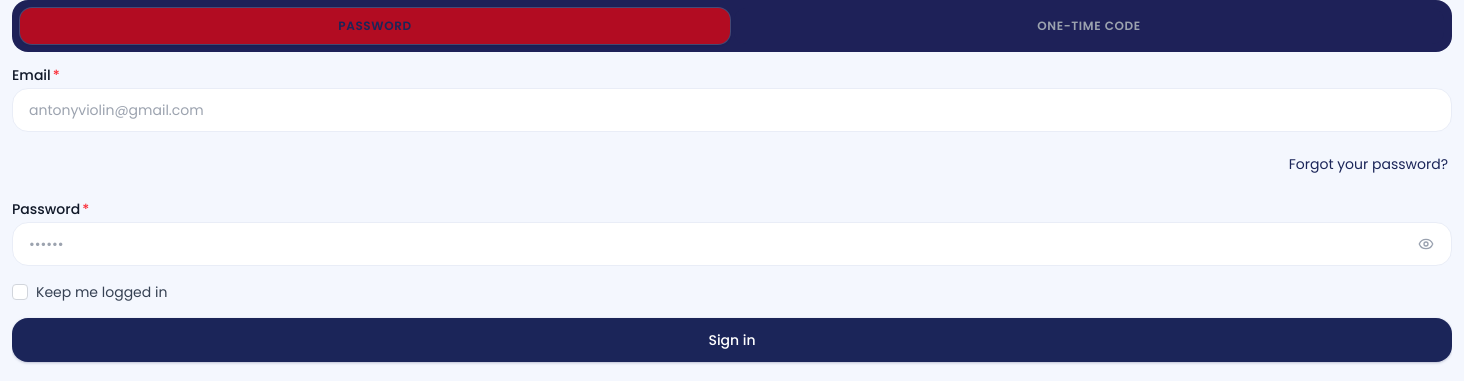
it: LoginForm OTP tab › shows an error when requestOtp fails for an unknown email
Click the tab "One-time code" at (1089, 26), box [734,8,1444,44]
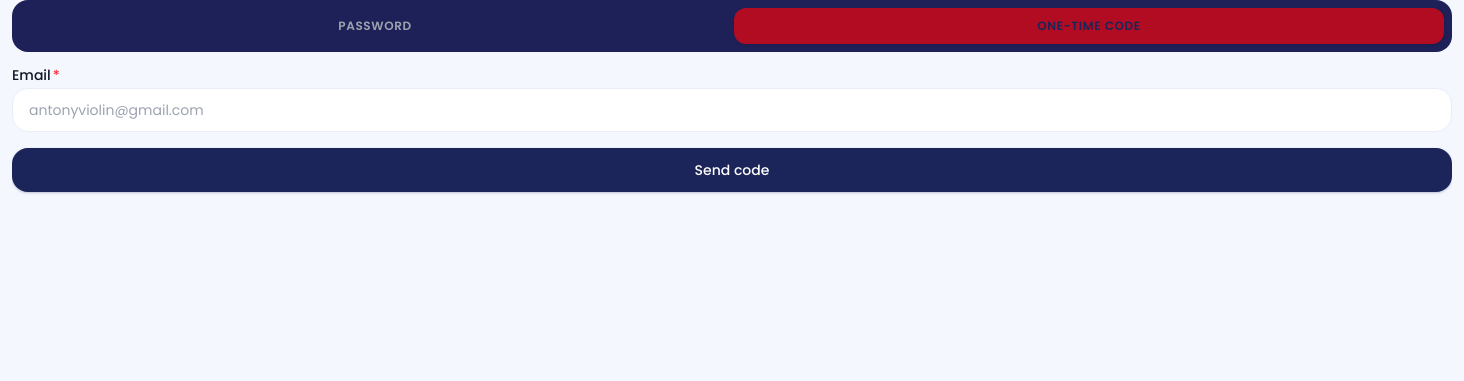
Type "unknown@bgycc.com" into the field named "email" at (732, 110), box [12,88,1452,132]
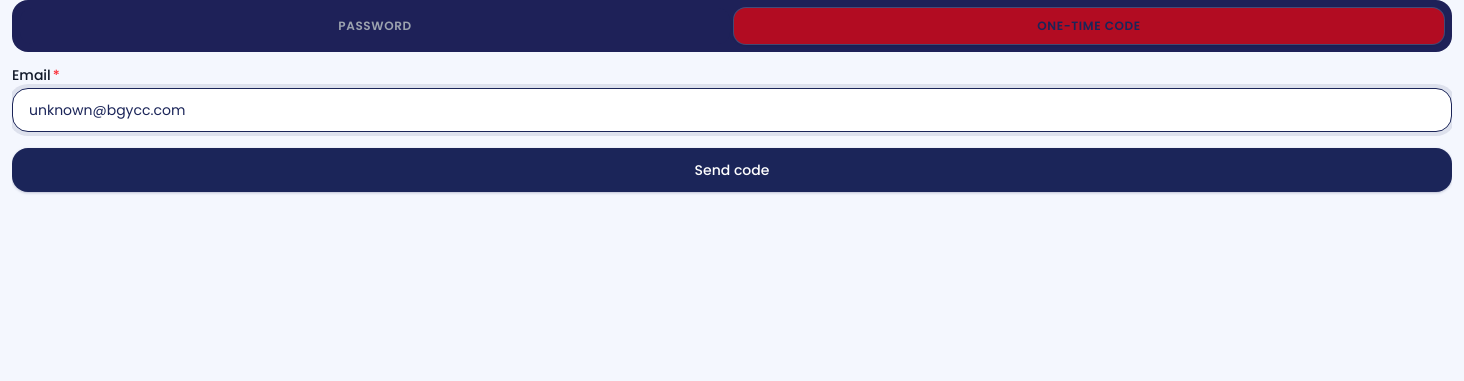
Click the button "Send code" at (732, 170), box [12,148,1452,192]
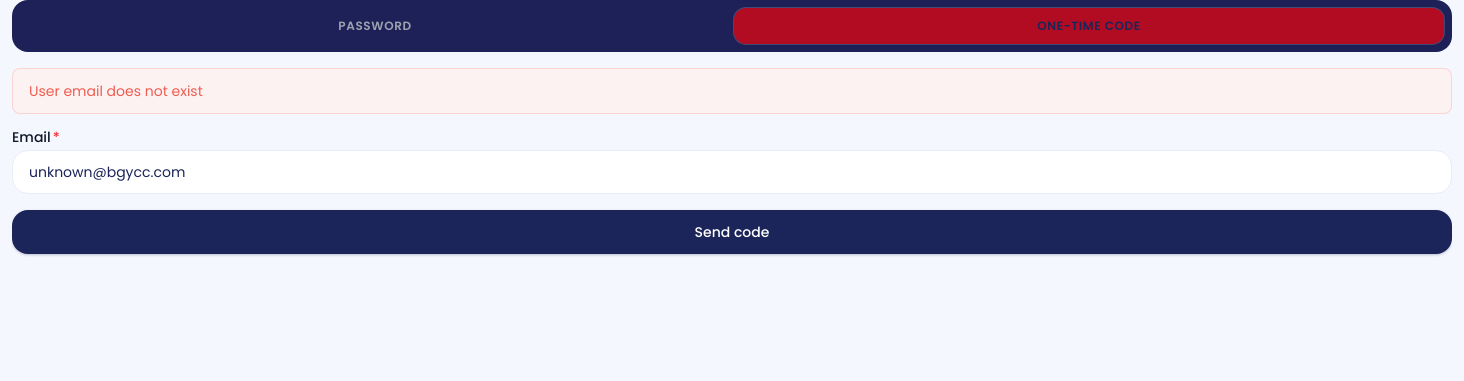
Check: the text "User email does not exist" is shown, box [29,81,203,101]
